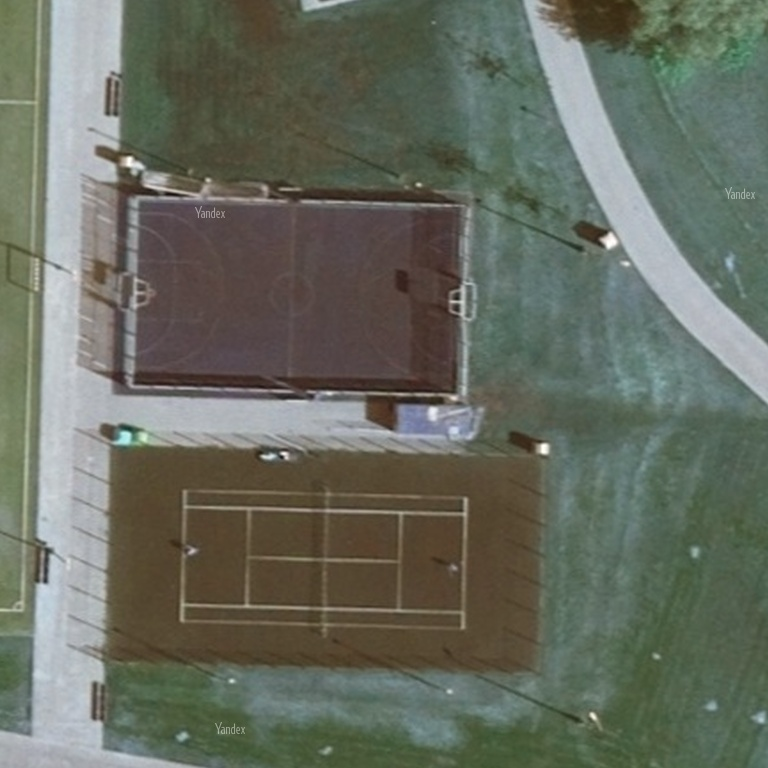basket_court: (120, 183, 485, 407)
